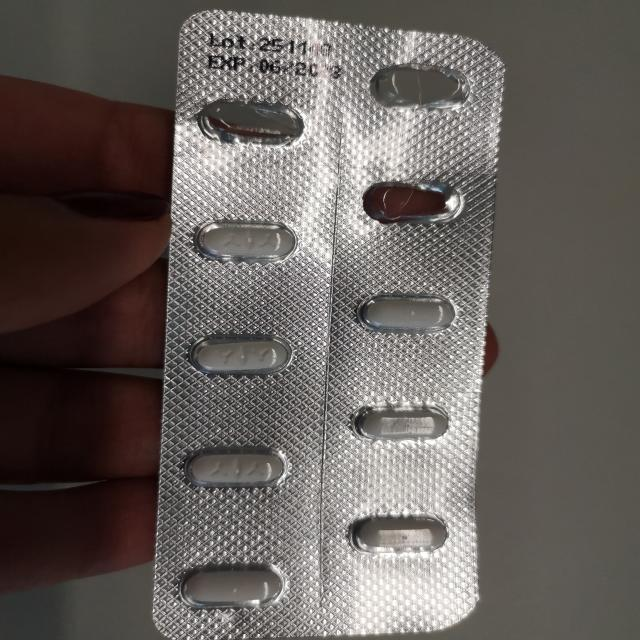Empty: (191, 93, 309, 151), (364, 60, 480, 116), (354, 176, 470, 230)
Pill: (172, 561, 290, 612), (339, 508, 456, 558), (184, 328, 296, 380), (179, 444, 294, 494), (188, 214, 300, 265), (346, 400, 458, 446), (351, 290, 457, 338)
